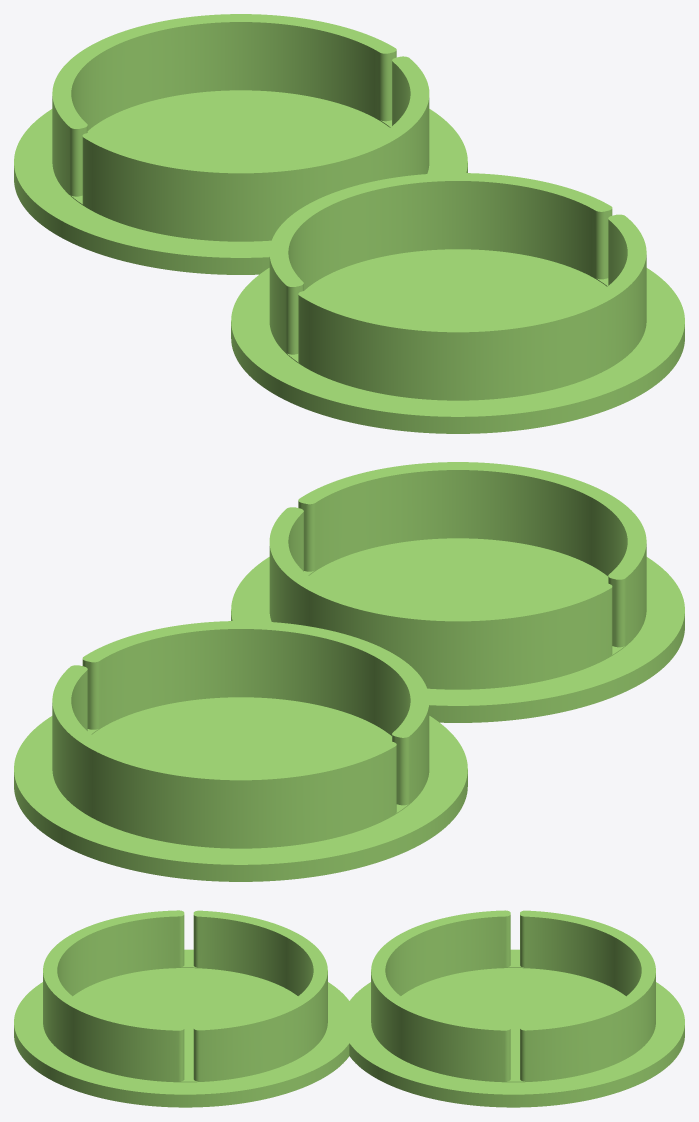
3 renders of one model, top to bottom at view 1: azimuth 30°, elevation 25°; view 2: azimuth 150°, elevation 25°; view 3: azimuth 270°, elevation 25°, orthographic. The views are drawn at different scales.
Parts seen in each view (by area): view 1: Object_2; view 2: Object_2; view 3: Object_2.
Boxes of the visible parts, x1,y1,x2,y2 form: Object_2: [14, 14, 684, 433]; Object_2: [14, 462, 684, 881]; Object_2: [14, 910, 684, 1107].
Size of the model in its own units: 0.511 by 0.1061 by 1.
